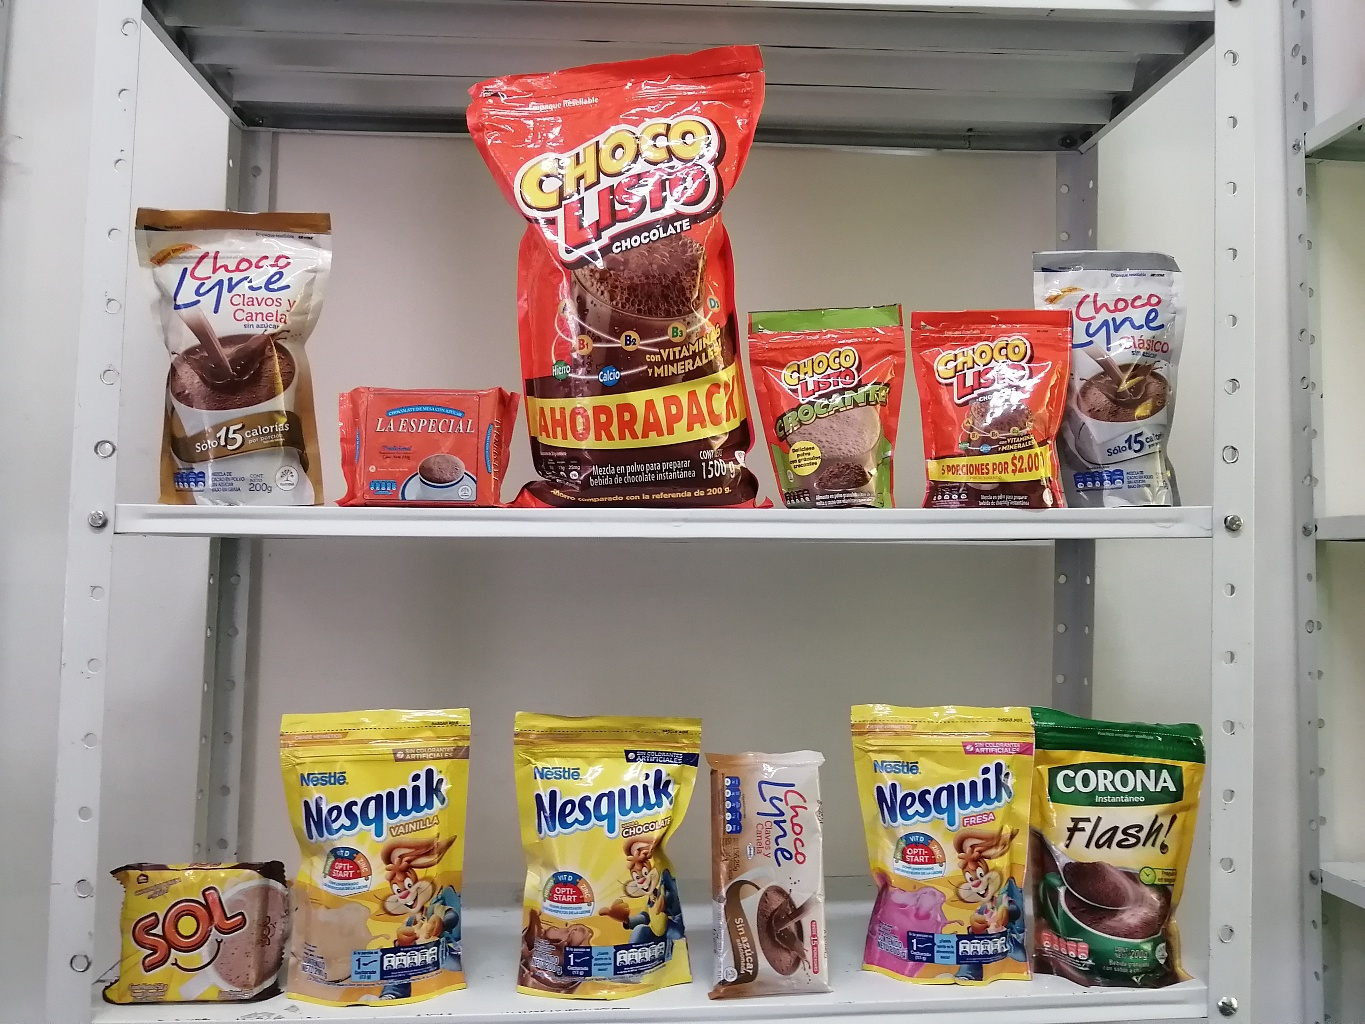COL0170102DYP10000: (733, 291, 916, 515)
COL0170103DYP1,500: (449, 30, 790, 516)
COL0170303DYP20000: (479, 698, 727, 1016)
COL0170305DYP20000: (838, 695, 1073, 992)
COL0170306DYP20000: (261, 692, 501, 1015)
